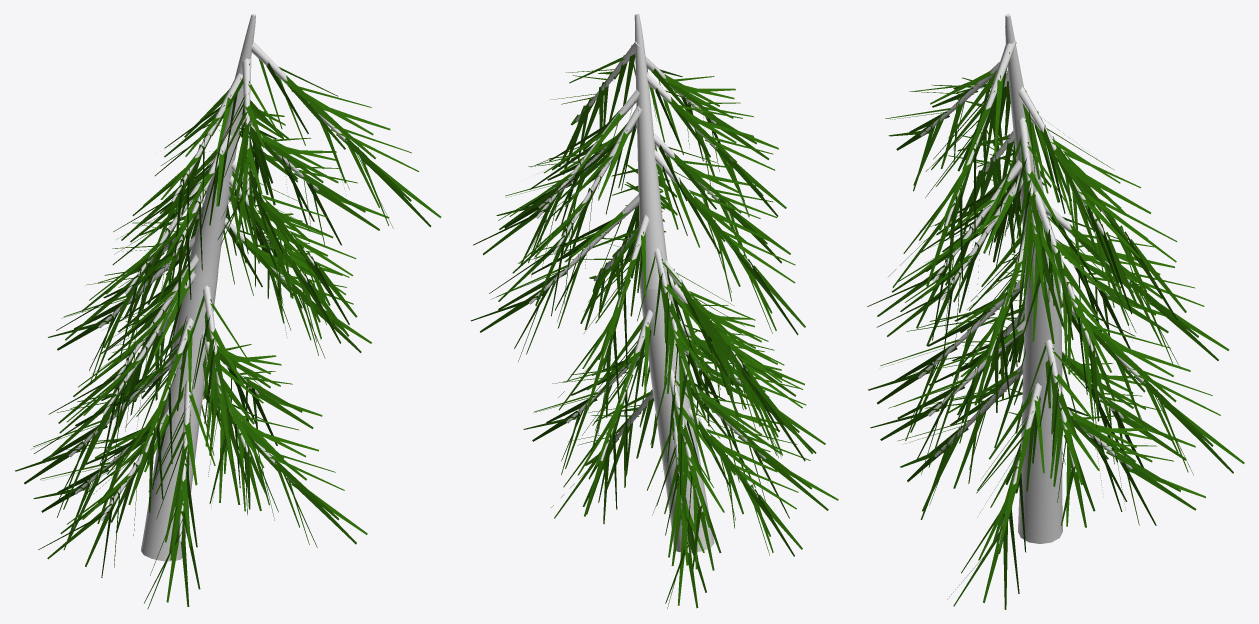
File: Tree01_CutUp.fbx
3 renders of one model, left to right at view 1: azimuth 30°, elevation 25°; view 2: azimuth 150°, elevation 25°; view 3: azimuth 270°, elevation 25°, orthographic. The views are drawn at different scales.
Visible parts, largest first — view 1: BezierCurve.552, BezierCurve.089, BezierCurve.221, BezierCurve.243, BezierCurve.004, BezierCurve.177, BezierCurve.529, BezierCurve.551, BezierCurve.375, BezierCurve.463, BezierCurve.419, BezierCurve.067 (+17 smaller); view 2: BezierCurve.419, BezierCurve.485, BezierCurve.199, BezierCurve.331, BezierCurve.111, BezierCurve.529, BezierCurve.004, BezierCurve.031, BezierCurve.287, BezierCurve.265, BezierCurve.507, BezierCurve.353 (+16 smaller); view 3: BezierCurve.507, BezierCurve.552, BezierCurve.353, BezierCurve.067, BezierCurve.463, BezierCurve.199, BezierCurve.003, BezierCurve.004, BezierCurve.133, BezierCurve.485, BezierCurve.331, BezierCurve.002 (+15 smaller).
Boxes of the visible parts, x1,y1,x2,y2 form: BezierCurve.552: [251, 41, 441, 228]; BezierCurve.089: [144, 381, 215, 609]; BezierCurve.221: [180, 285, 252, 508]; BezierCurve.243: [34, 271, 195, 479]; BezierCurve.004: [160, 279, 217, 451]; BezierCurve.177: [93, 317, 193, 512]; BezierCurve.529: [113, 73, 242, 257]; BezierCurve.551: [211, 57, 279, 247]; BezierCurve.375: [229, 175, 349, 343]; BezierCurve.463: [241, 115, 389, 245]; BezierCurve.419: [56, 158, 215, 358]; BezierCurve.067: [201, 384, 367, 547]; BezierCurve.419: [654, 149, 805, 335]; BezierCurve.485: [489, 105, 641, 316]; BezierCurve.199: [551, 309, 653, 524]; BezierCurve.331: [558, 215, 649, 417]; BezierCurve.111: [650, 369, 724, 575]; BezierCurve.529: [646, 72, 786, 217]; BezierCurve.004: [640, 286, 696, 450]; BezierCurve.031: [687, 408, 802, 556]; BezierCurve.287: [637, 248, 709, 437]; BezierCurve.265: [666, 260, 787, 431]; BezierCurve.507: [473, 89, 639, 277]; BezierCurve.353: [470, 194, 639, 361]; BezierCurve.507: [1018, 87, 1147, 314]; BezierCurve.552: [888, 40, 1016, 295]; BezierCurve.353: [1028, 191, 1125, 427]; BezierCurve.067: [947, 383, 1044, 609]; BezierCurve.463: [994, 117, 1069, 346]; BezierCurve.199: [1060, 292, 1244, 475]; BezierCurve.003: [1018, 431, 1062, 543]; BezierCurve.004: [1021, 274, 1062, 441]; BezierCurve.133: [1023, 339, 1099, 527]; BezierCurve.485: [1030, 115, 1186, 320]; BezierCurve.331: [1045, 205, 1229, 366]; BezierCurve.002: [1062, 407, 1205, 525].
Size of the model in its own units: 922 by 1404 by 836.
